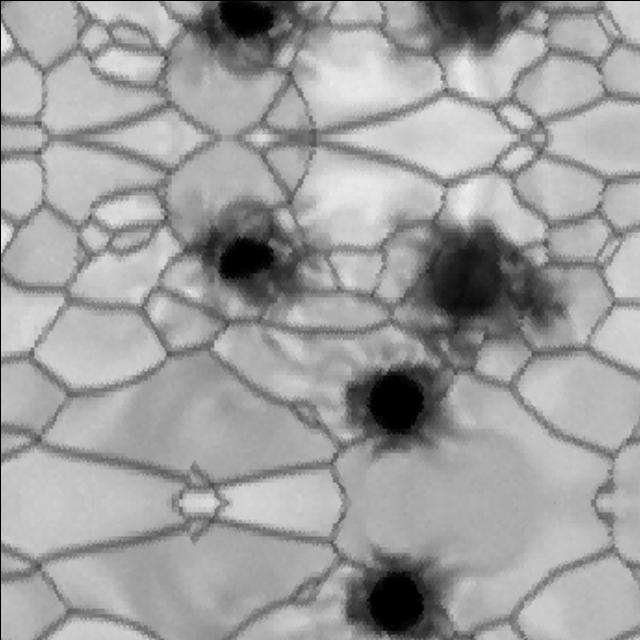good_void: (328, 211, 579, 473), (192, 196, 326, 360), (328, 533, 471, 640), (192, 0, 326, 79), (393, 0, 554, 64)
